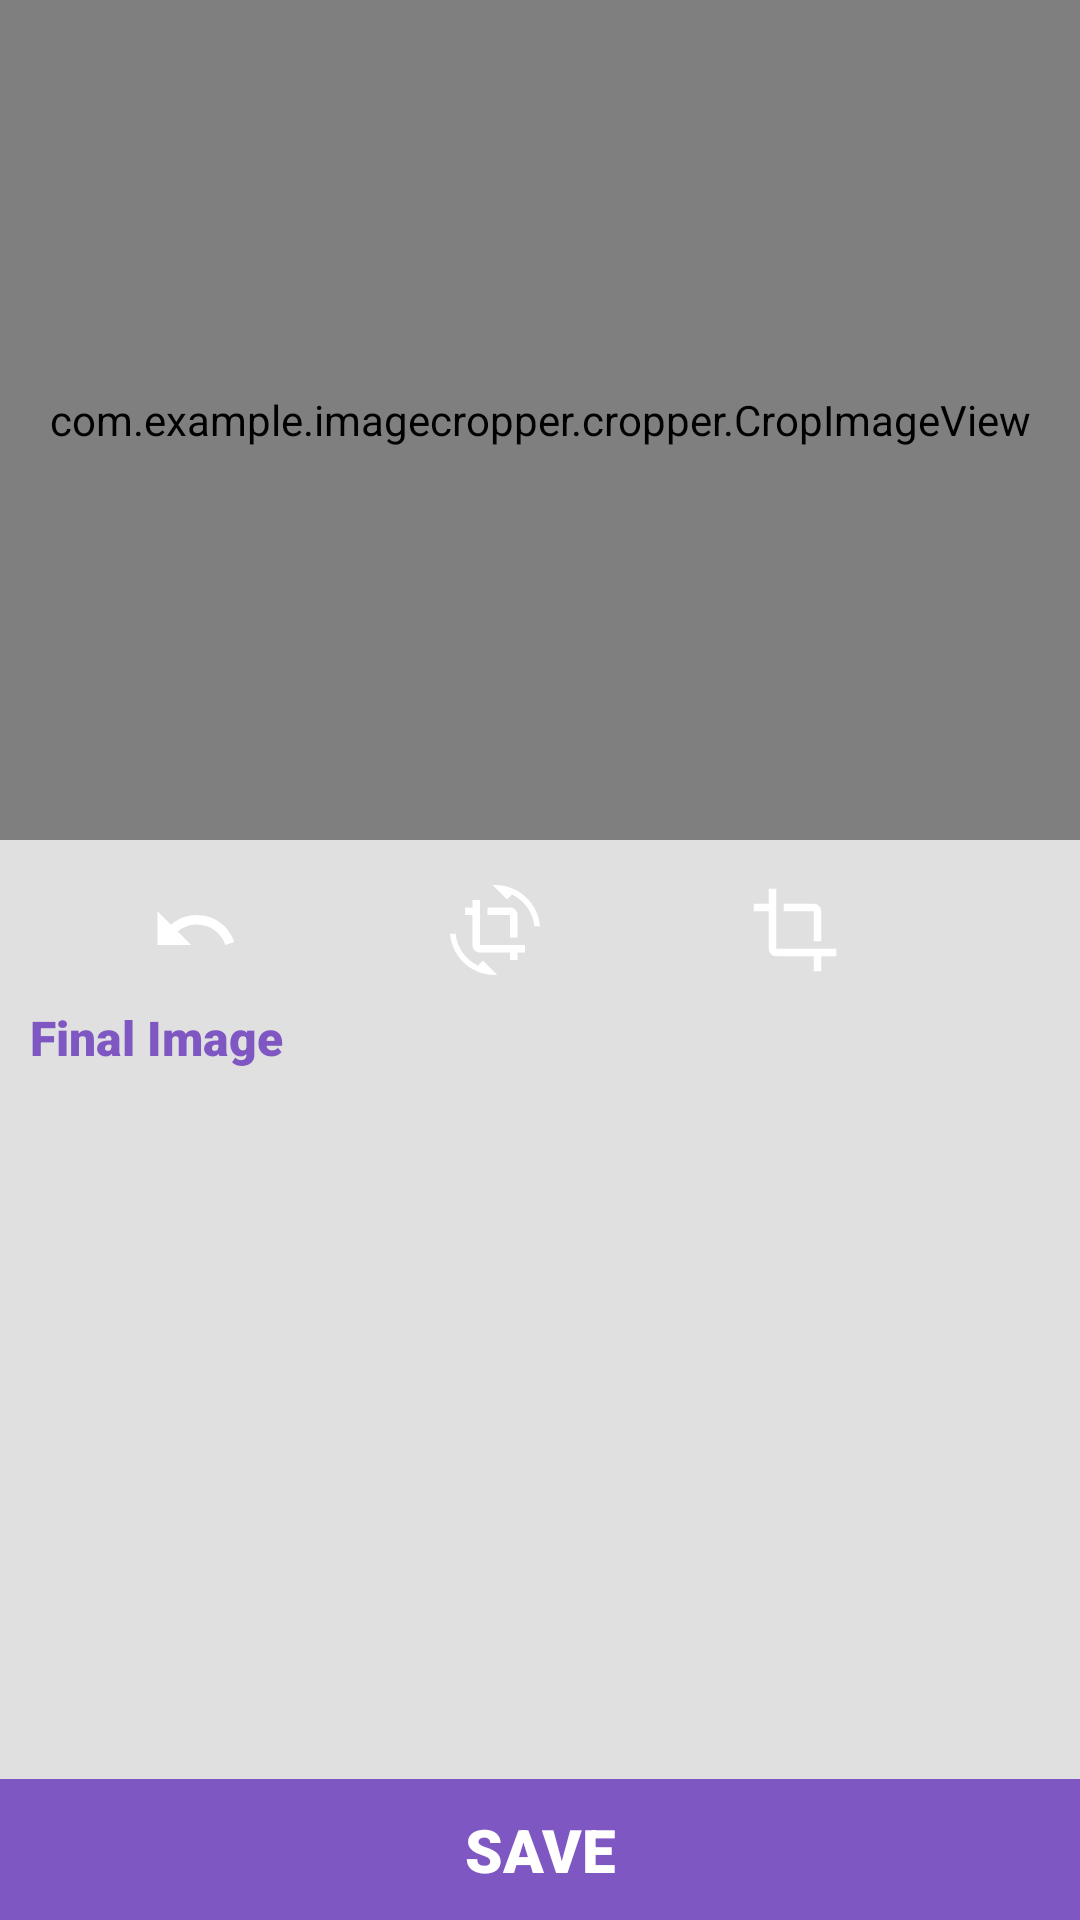

Named icons in this screenshot (1080*1920) and their centers, (x,y):
rotate: (495,930)
undo: (196,929)
